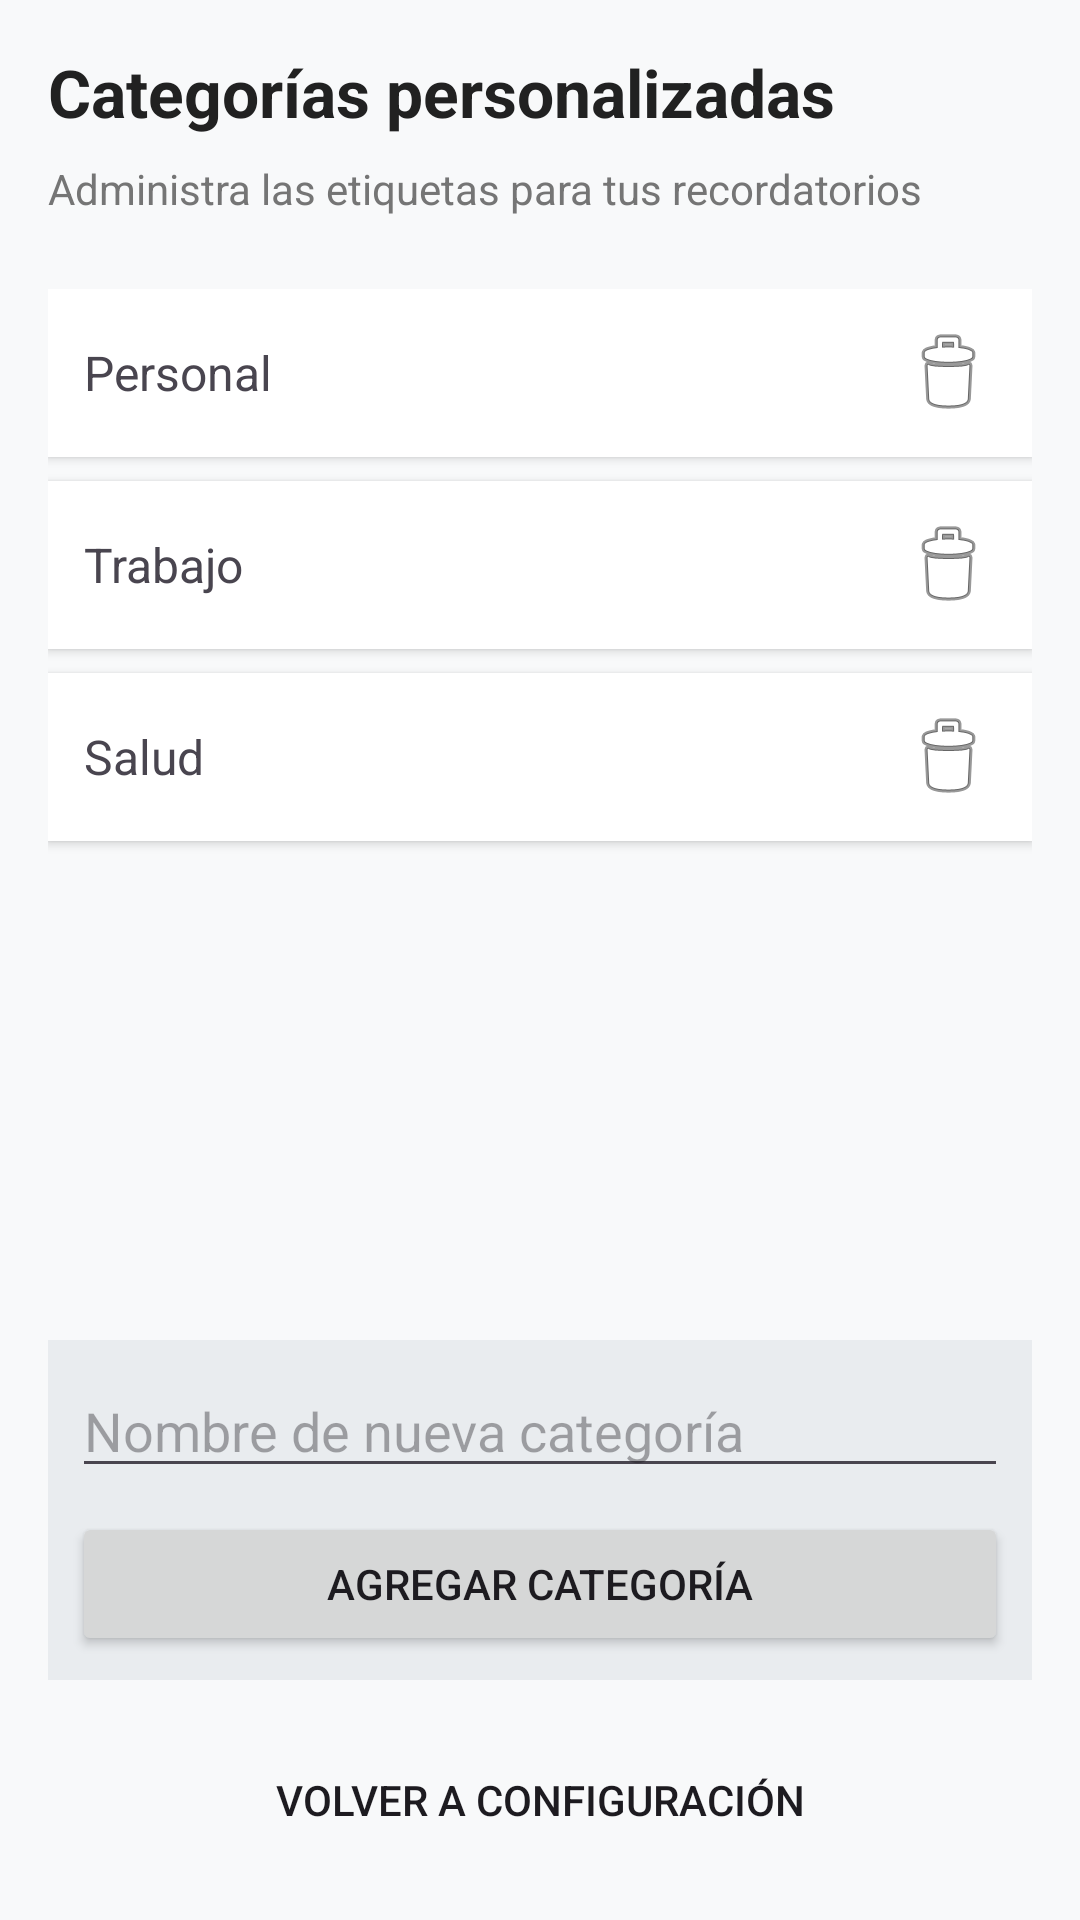

Screen size 1080px×1920px. Icon name, then its box in pixels as (x1, y1, x2, y2):
Eliminar: (921, 334, 976, 409), (921, 526, 976, 601), (921, 718, 976, 793)
